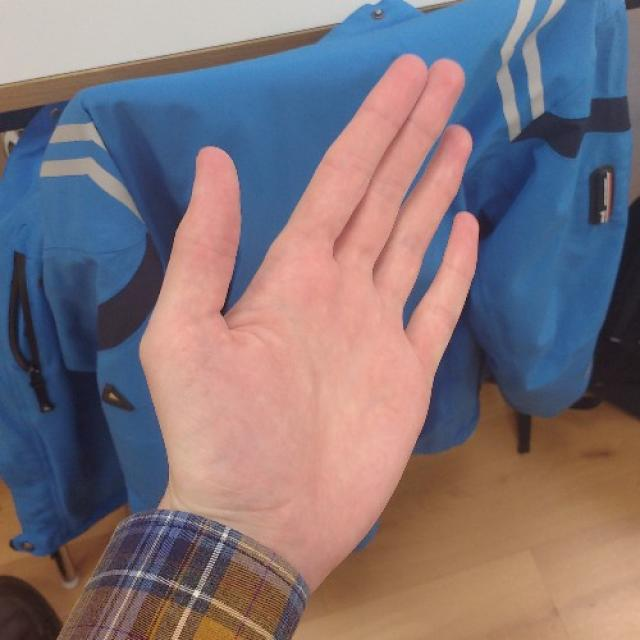paper: (140, 54, 478, 537)
